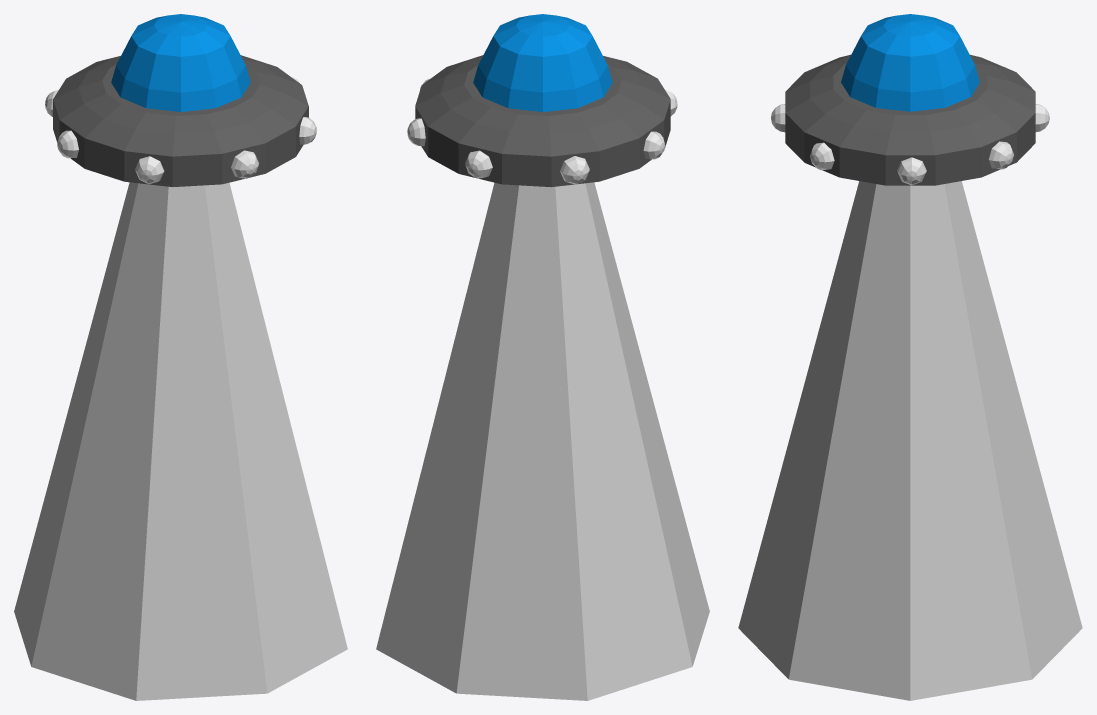
File: UFO.fbx
3 renders of one model, left to right at view 1: azimuth 30°, elevation 25°; view 2: azimuth 150°, elevation 25°; view 3: azimuth 270°, elevation 25°, orthographic.
Parts seen in each view (by area): view 1: Light, Ufo, Cabin; view 2: Light, Ufo, Cabin; view 3: Light, Ufo, Cabin.
Part boxes in pixels (<box>): Light: <box>14,182,347,700</box>; Ufo: <box>45,55,316,186</box>; Cabin: <box>111,14,250,111</box>; Light: <box>376,182,709,700</box>; Ufo: <box>407,55,677,187</box>; Cabin: <box>473,14,612,111</box>; Light: <box>738,181,1082,700</box>; Ufo: <box>771,54,1049,185</box>; Cabin: <box>841,14,979,111</box>.
Bounding box in the file's own units: 675 × 1311 × 675.
